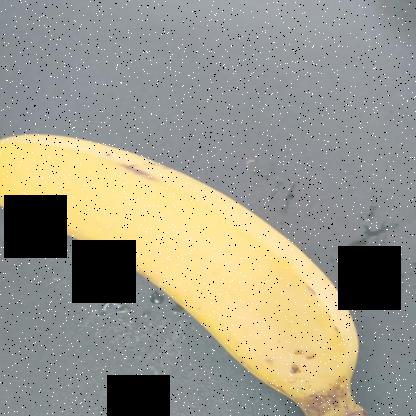freshripe: (1, 117, 385, 415)
